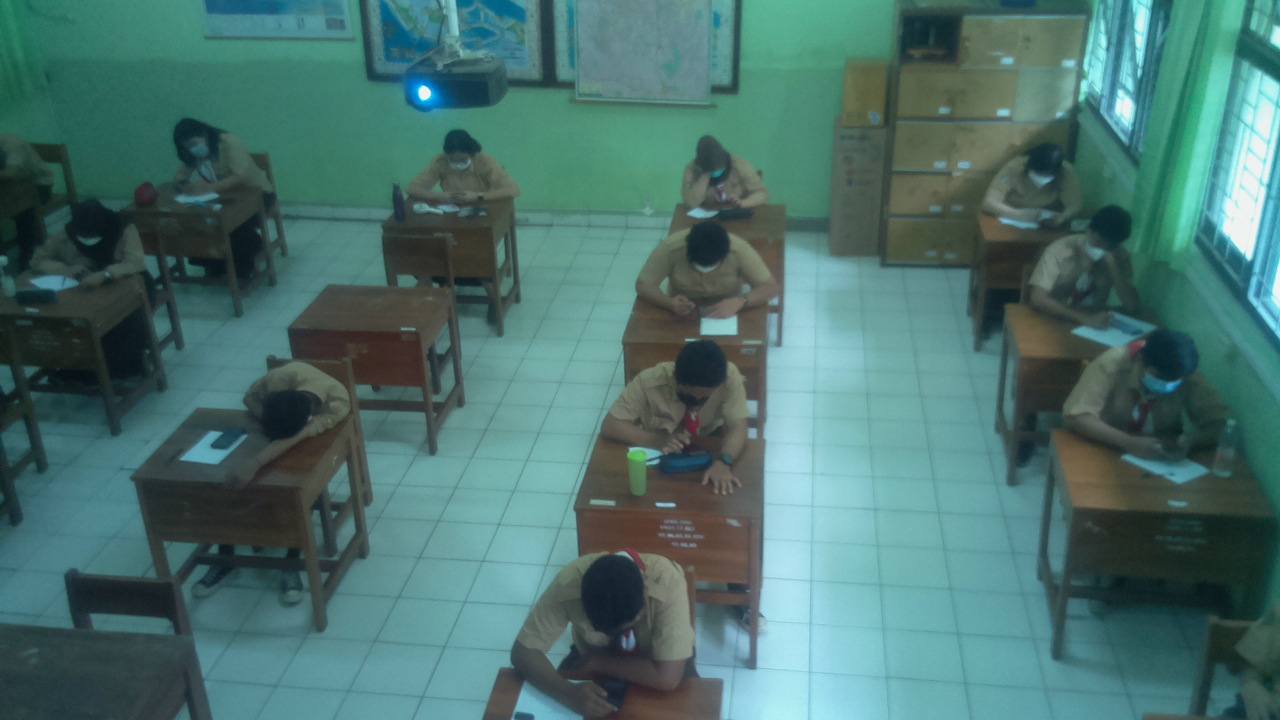Student: (545, 551, 693, 673), (1081, 327, 1212, 437), (633, 339, 746, 433), (1043, 205, 1137, 308), (649, 225, 762, 302), (163, 111, 260, 190), (247, 361, 346, 434), (47, 199, 144, 273), (991, 143, 1082, 210), (677, 135, 761, 205), (421, 131, 506, 200)
